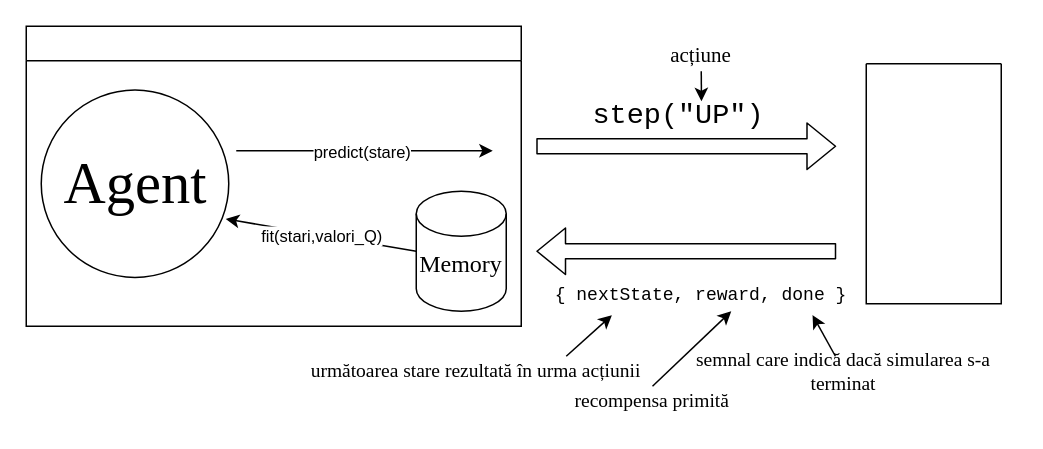
This 1043x449 diagram has some shape labels left out. Each missing label, with the box of its shape:
Env: (865, 62, 1001, 304)
Trainer: (25, 25, 521, 326)
